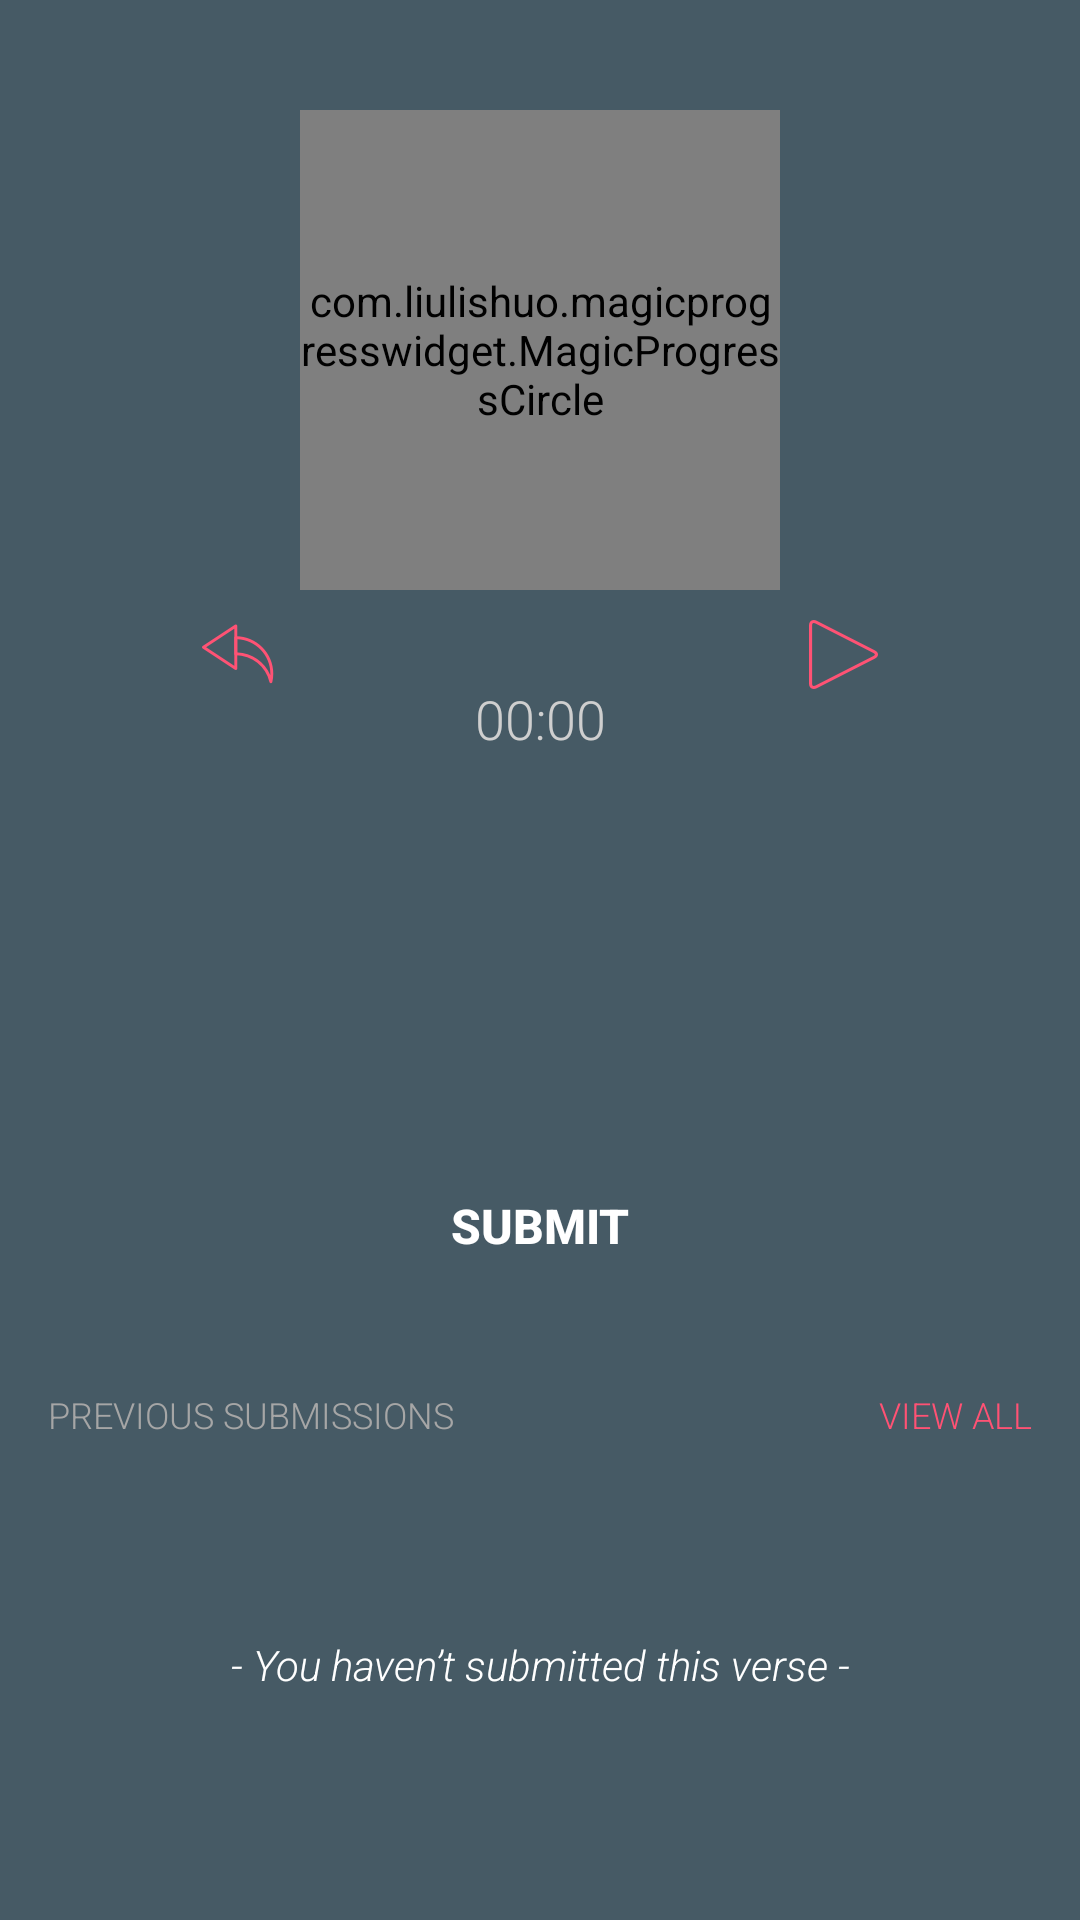

Icons on this 1080px×1920px Android screen, each with the point to tap as (x,y):
play: (843,654)
reset: (238,653)
